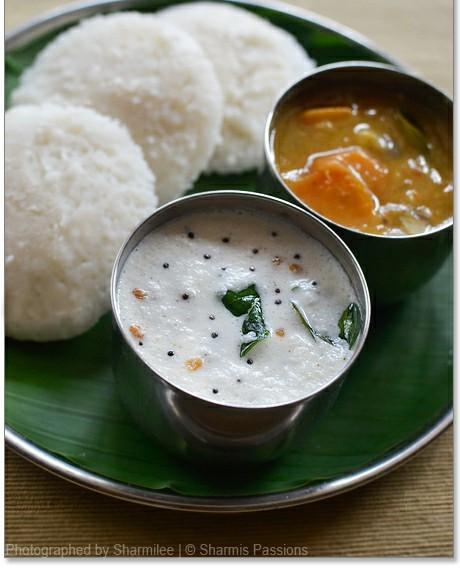CoconutChutney: (121, 205, 359, 410)
